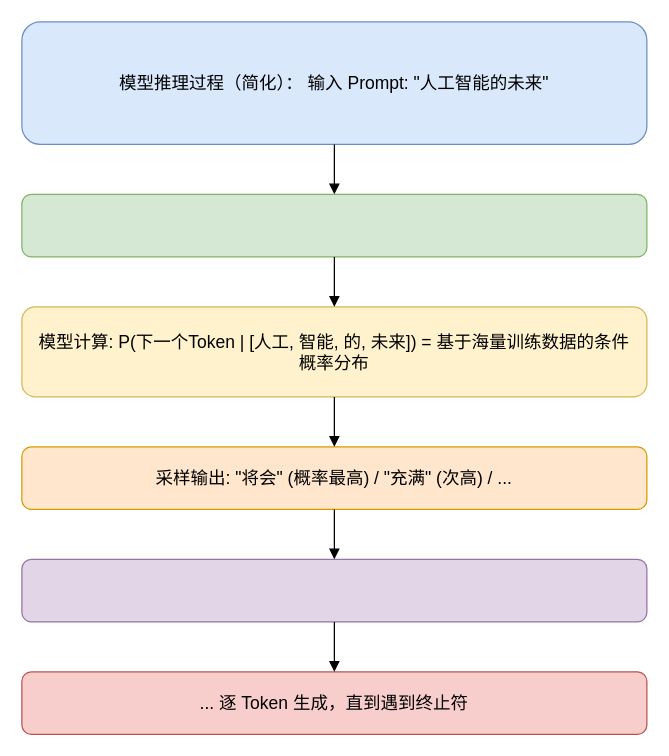
This 669x756 diagram has some shape labels left out. Each missing label, with the box of its shape:
Token 化: [人工, 智能, 的, 未来]: (21, 193, 647, 257)
继续: P(下一个Token | [人工, 智能, 的, 未来, 将会]): (21, 558, 647, 622)
